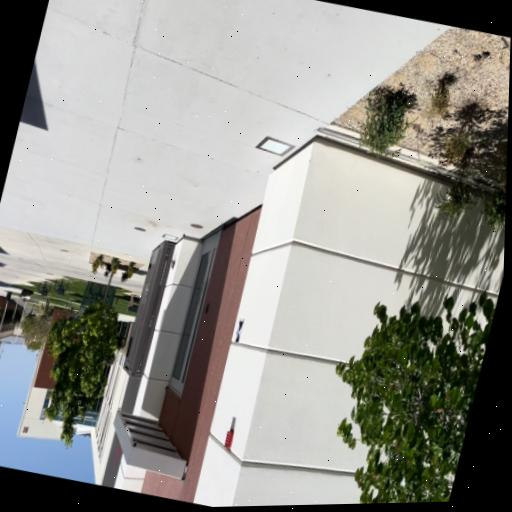target9: (234, 319, 243, 343)
